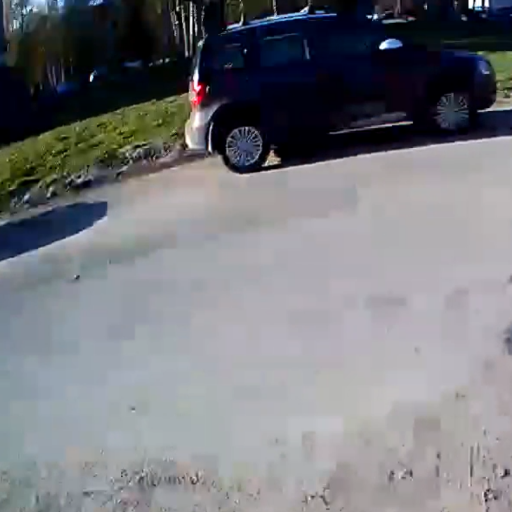Car: (181, 7, 497, 175)
